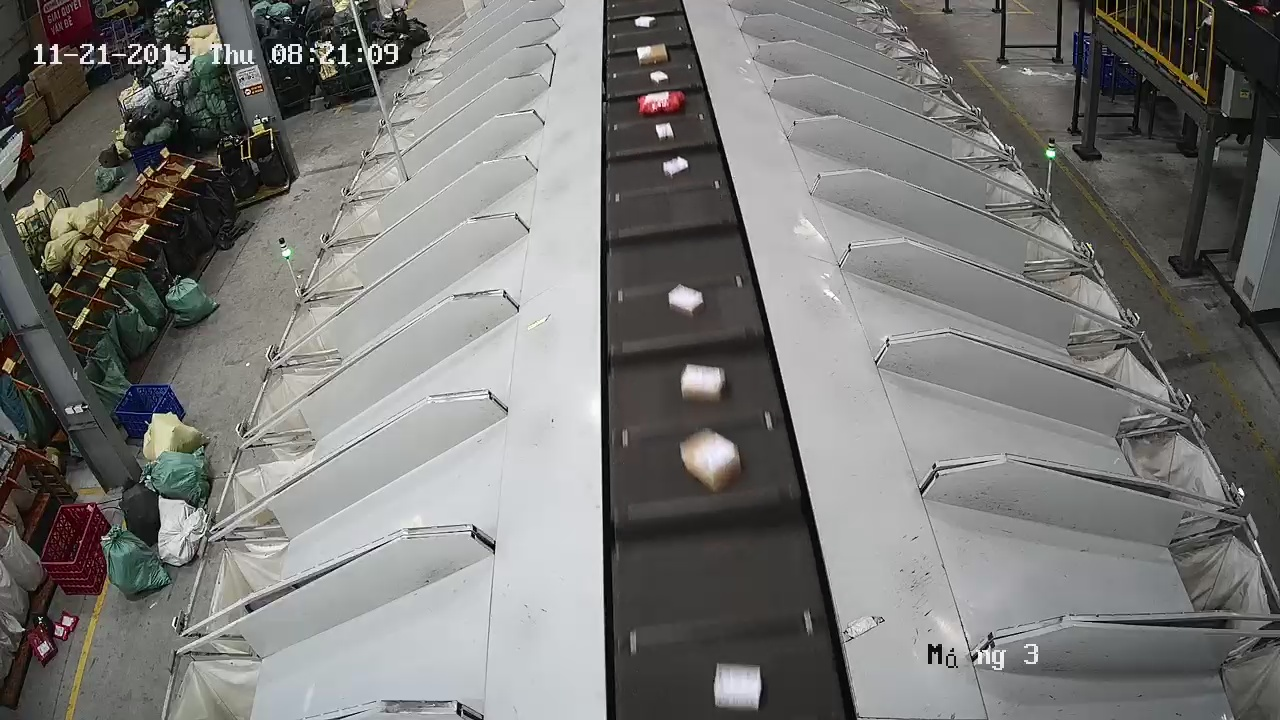parcel: (679, 425, 743, 495), (678, 361, 726, 404), (666, 283, 706, 320)
